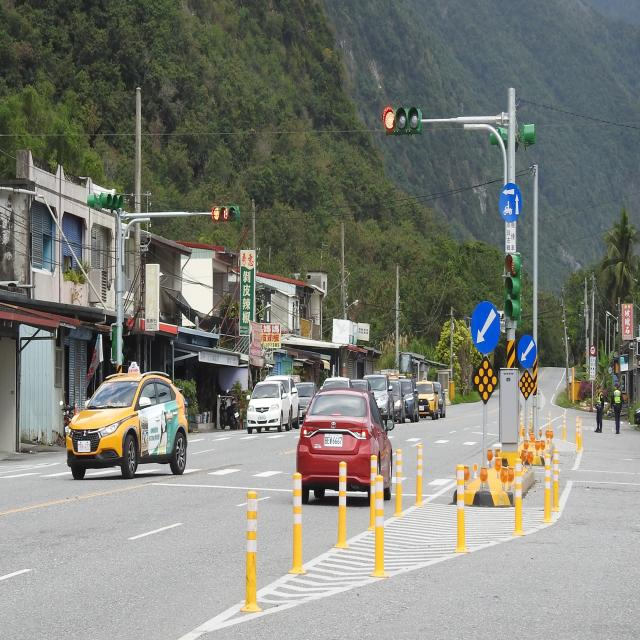red light: (382, 106, 424, 136), (212, 200, 242, 223)
